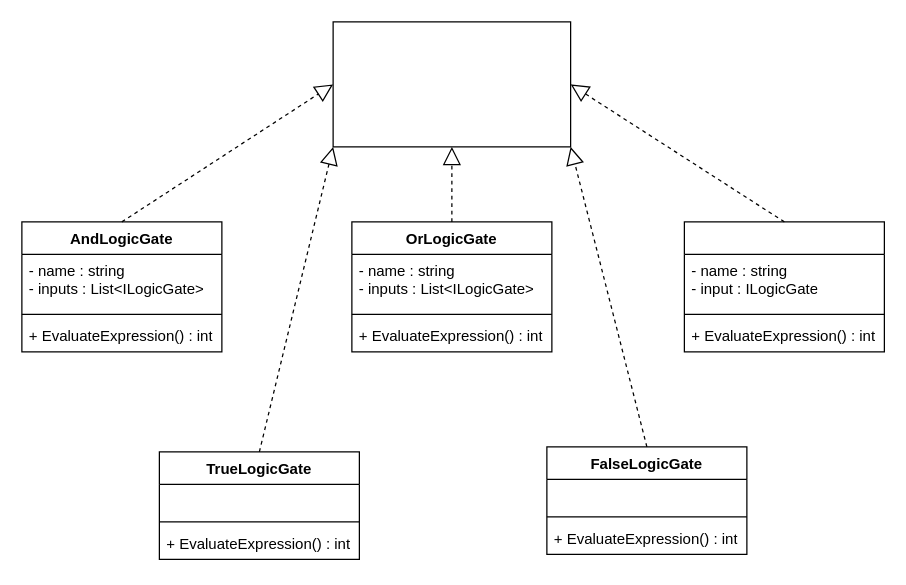
Some shapes in this 906 by 585 pixel diagram are drawn without their labels. The box of each missing label's shape, as (x1, y1, x2, y2) in pixels:
<<Interface>> ILogicGate + EvaluateExpression() : int: (332, 21, 571, 147)
NotLogicGate: (683, 221, 884, 352)
